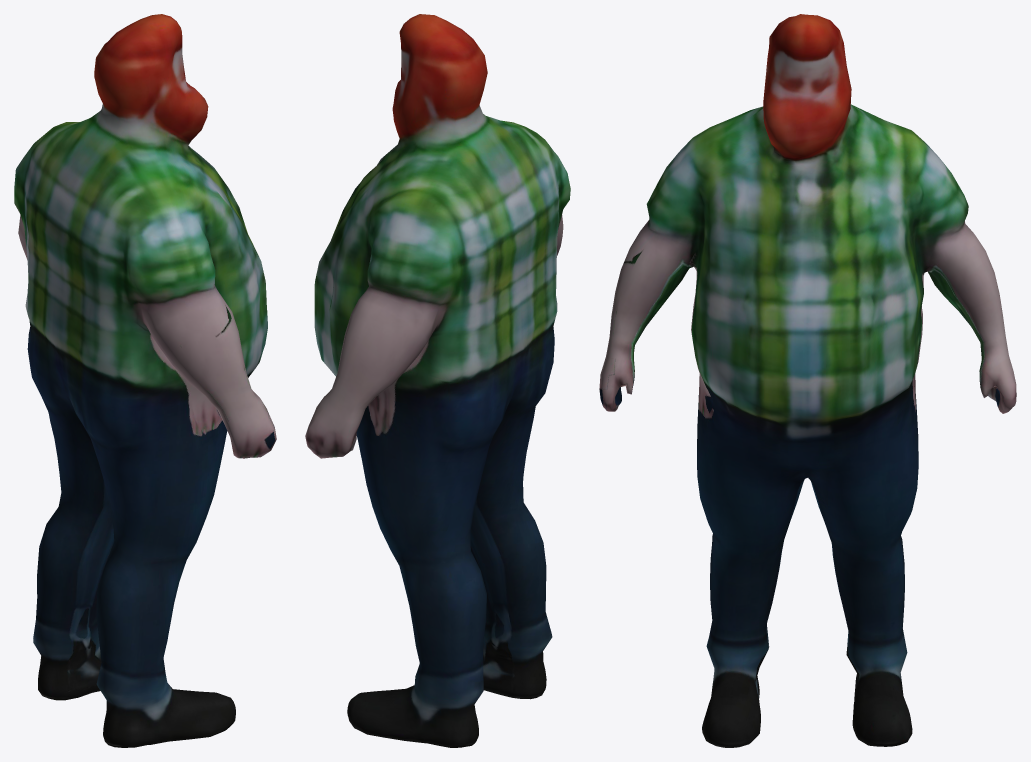
File: c6741c22adeb_ginger__redhead__ma.fbx
The picture shows the model from 3 angles, left to right: view 1: azimuth 30°, elevation 25°; view 2: azimuth 150°, elevation 25°; view 3: azimuth 270°, elevation 25°; orthographic projection. The views are drawn at different scales.
Visible parts, largest first — view 1: mesh; view 2: mesh; view 3: mesh.
Boxes of the visible parts, x1=… form: mesh: x1=14, y1=14, x2=276, y2=747; mesh: x1=305, y1=14, x2=570, y2=747; mesh: x1=599, y1=14, x2=1016, y2=747.
Bounding box in the file's own units: 29.82 × 99.93 × 52.69.
